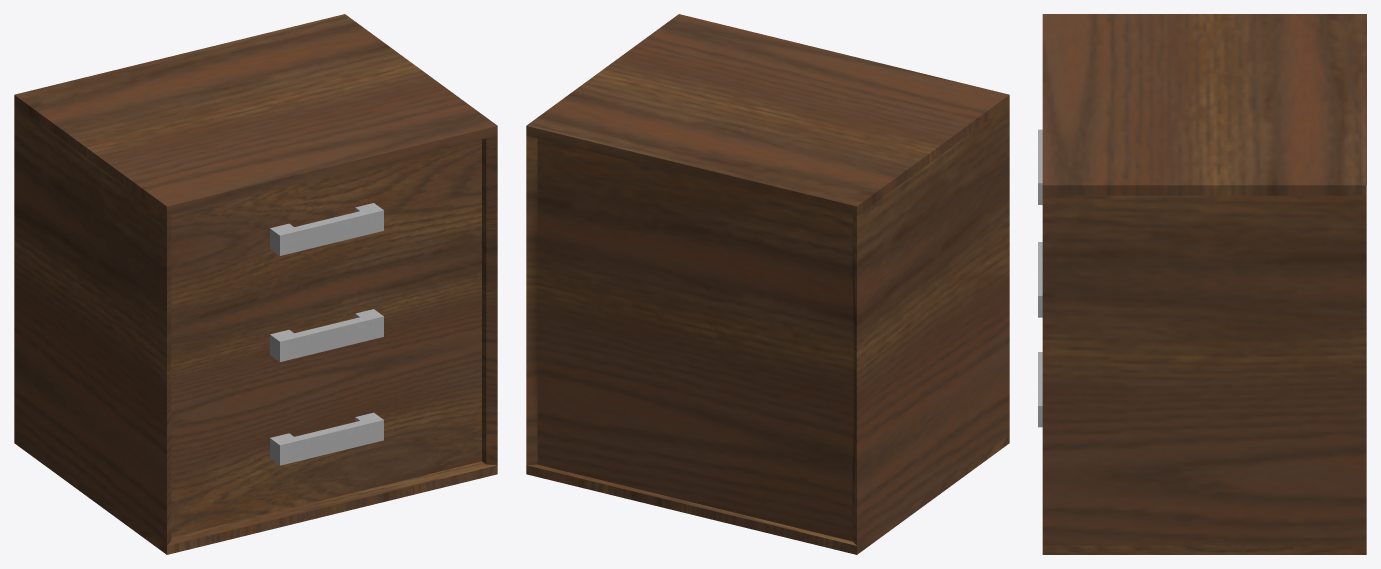
Rendered from Drawer.fbx.
The picture shows the model from 3 angles, left to right: view 1: azimuth 30°, elevation 25°; view 2: azimuth 150°, elevation 25°; view 3: azimuth 270°, elevation 25°; orthographic projection. The views are drawn at different scales.
Visible parts, largest first — view 1: RT_IP_Furniture:Drawer, RT_IP_Furniture:Handle5, RT_IP_Furniture:Handle6, RT_IP_Furniture:Handle; view 2: RT_IP_Furniture:Drawer; view 3: RT_IP_Furniture:Drawer.
Part boxes in pixels (x1,y1,x2,y2): RT_IP_Furniture:Drawer: [14, 14, 497, 554]; RT_IP_Furniture:Handle5: [270, 309, 383, 361]; RT_IP_Furniture:Handle6: [270, 412, 383, 465]; RT_IP_Furniture:Handle: [270, 203, 383, 255]; RT_IP_Furniture:Drawer: [526, 14, 1009, 554]; RT_IP_Furniture:Drawer: [1042, 14, 1366, 554].
Bounding box in the file's own units: 1.05 × 1.06 × 0.8514.
